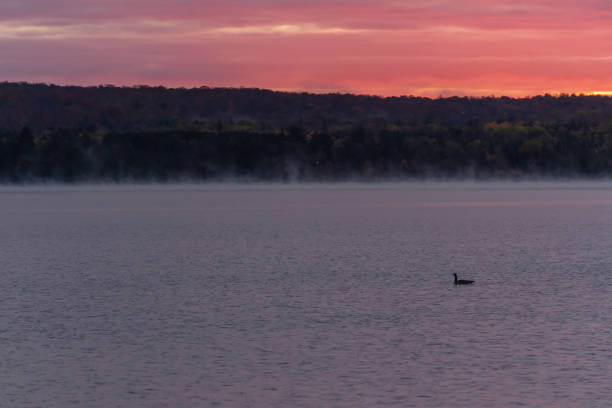goose: (452, 271, 475, 288)
